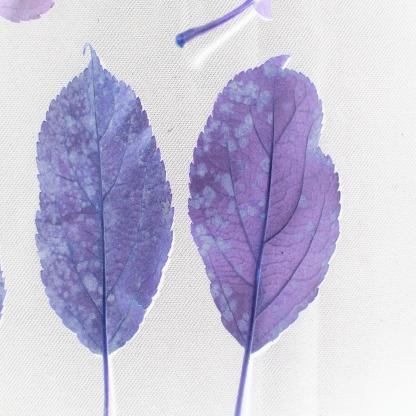Apple Scab Leaf: (185, 42, 346, 364), (28, 41, 182, 373)
